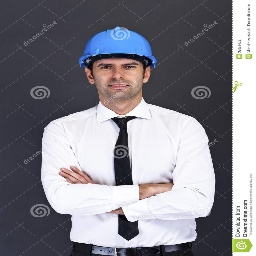helmet: (83, 25, 153, 60)
no-vest: (40, 98, 212, 246)
person: (36, 23, 220, 256)
